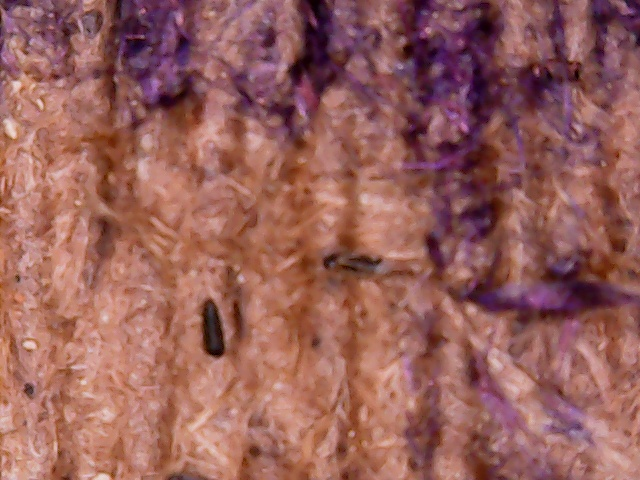full: (190, 284, 236, 368)
